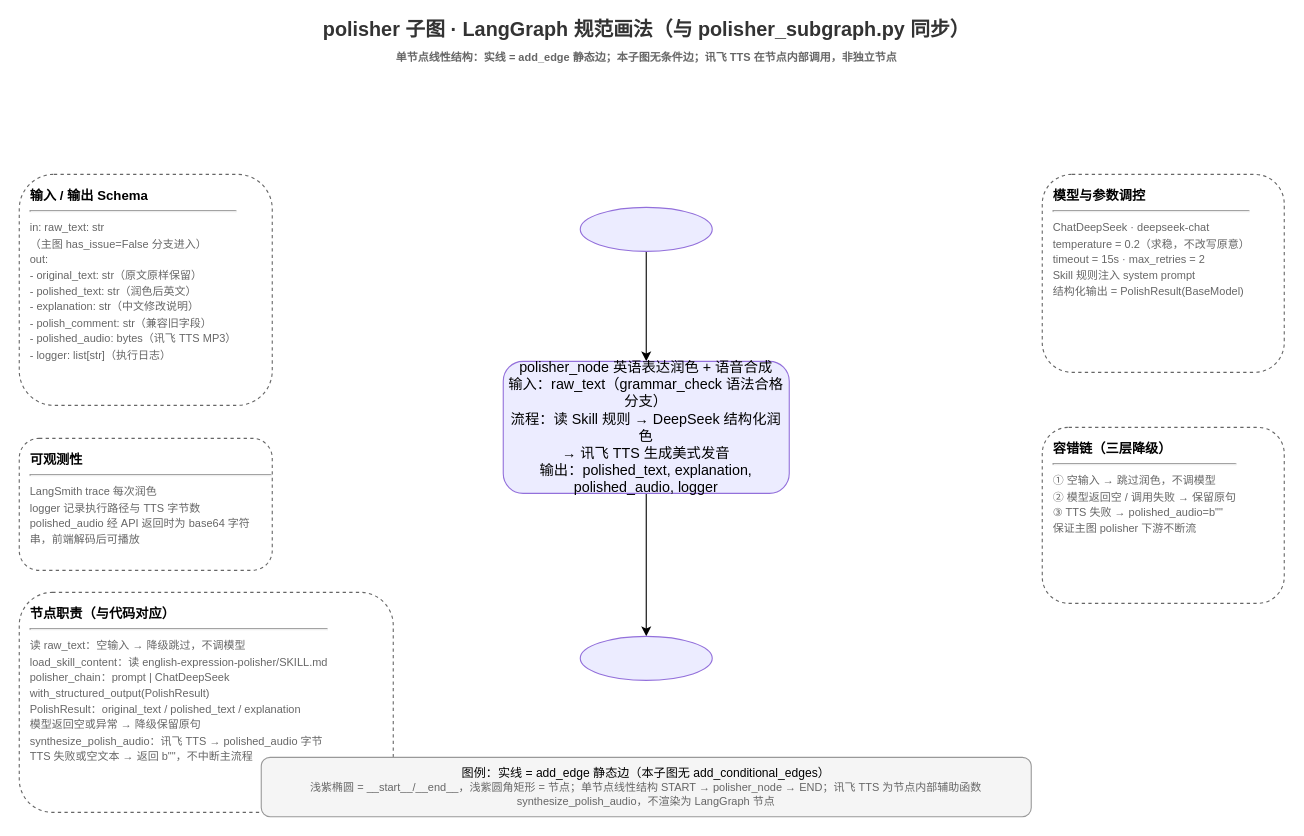
The diagram is 1304 pixels wide and 836 high, and some of its shapes have lost their labels. The box of each missing label's shape, as (x1, y1, x2, y2) in pixels:
__end__: (579, 635, 712, 680)
__start__: (579, 206, 712, 251)
